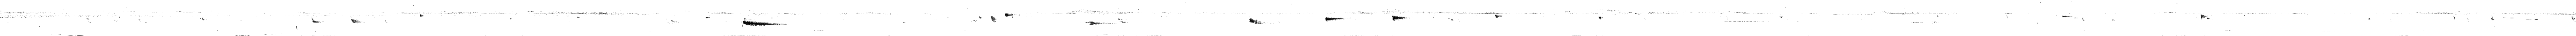meteor: (743, 20, 782, 26), (1391, 15, 1410, 21), (1249, 18, 1265, 25), (1324, 16, 1345, 21), (350, 18, 365, 25), (310, 18, 322, 23), (991, 16, 997, 23), (2200, 13, 2206, 20), (1005, 13, 1014, 18), (1495, 15, 1503, 18)
